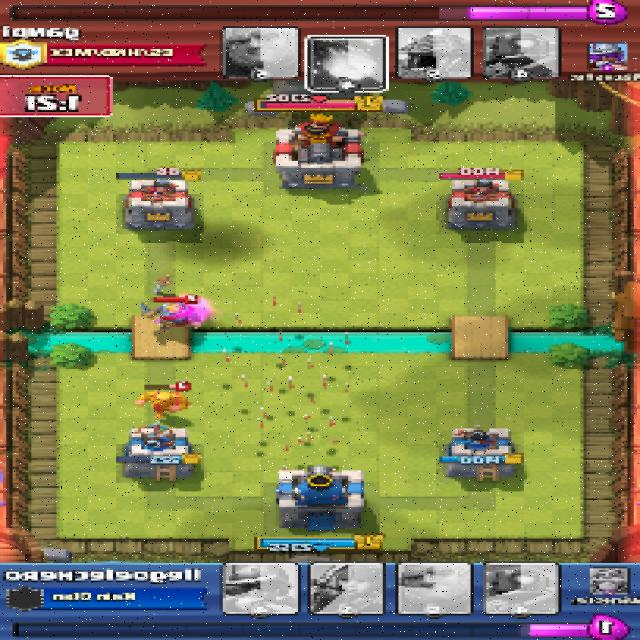Enemy-Knight: (139, 299, 207, 332)
Player-Arrow: (223, 300, 341, 457)
Player-GoblinCage: (139, 391, 193, 416)
